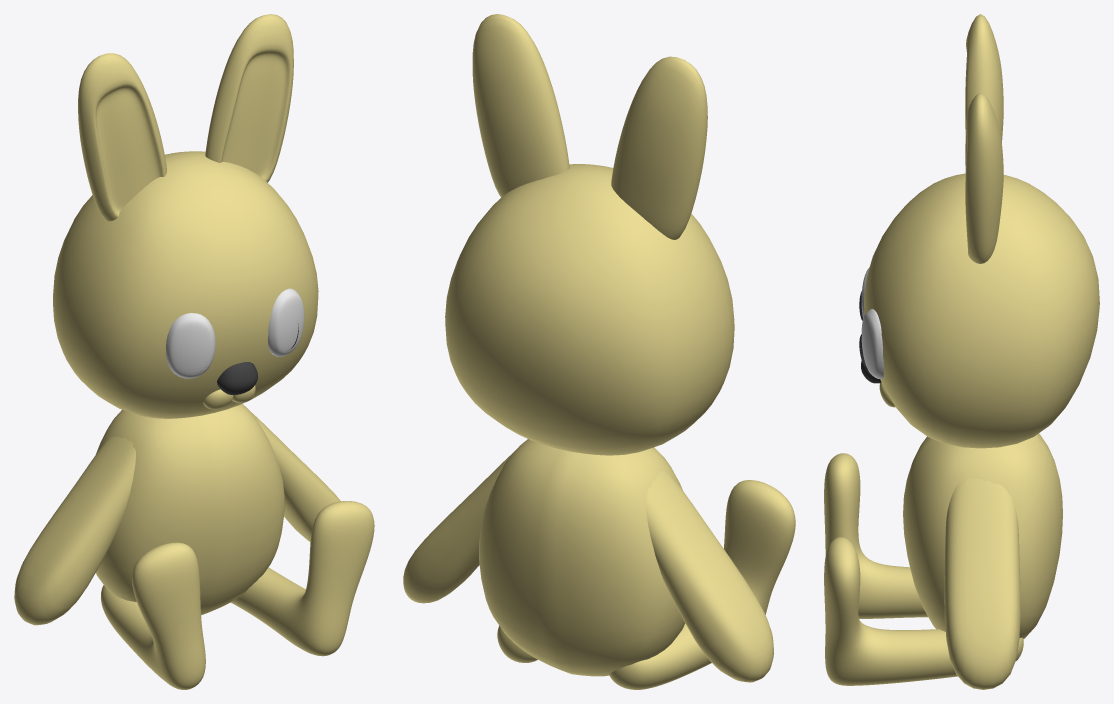
The model's file is test_character.glb.
3 views of the same model, side by side, from view 1: azimuth 30°, elevation 25°; view 2: azimuth 150°, elevation 25°; view 3: azimuth 270°, elevation 25° (orthographic). The views are drawn at different scales.
Visible parts, largest first — view 1: face, body, feet, ears, hands, eyes_white, nose, nose_under; view 2: face, body, ears, hands, feet; view 3: face, body, feet, hands, ears, eyes_white.
Part boxes in pixels (left/top/right/bottom): face: left=53, top=151, right=318, bottom=418; body: left=95, top=404, right=284, bottom=615; feet: left=100, top=501, right=374, bottom=689; ears: left=78, top=14, right=293, bottom=221; hands: left=14, top=411, right=340, bottom=625; eyes_white: left=166, top=288, right=304, bottom=378; nose: left=217, top=362, right=258, bottom=395; nose_under: left=203, top=385, right=255, bottom=409; face: left=445, top=164, right=734, bottom=455; body: left=479, top=439, right=685, bottom=676; ears: left=472, top=14, right=707, bottom=239; hands: left=403, top=452, right=773, bottom=682; feet: left=497, top=480, right=795, bottom=689; face: left=864, top=173, right=1099, bottom=448; body: left=903, top=433, right=1062, bottom=638; feet: left=824, top=453, right=1023, bottom=685; hands: left=944, top=478, right=1020, bottom=689; ears: left=965, top=14, right=1003, bottom=263; eyes_white: left=861, top=267, right=883, bottom=379.
Bounding box in the file's own units: 2.17 × 3.71 × 1.56.
